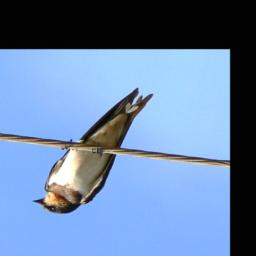Swallow: (29, 79, 155, 222)
